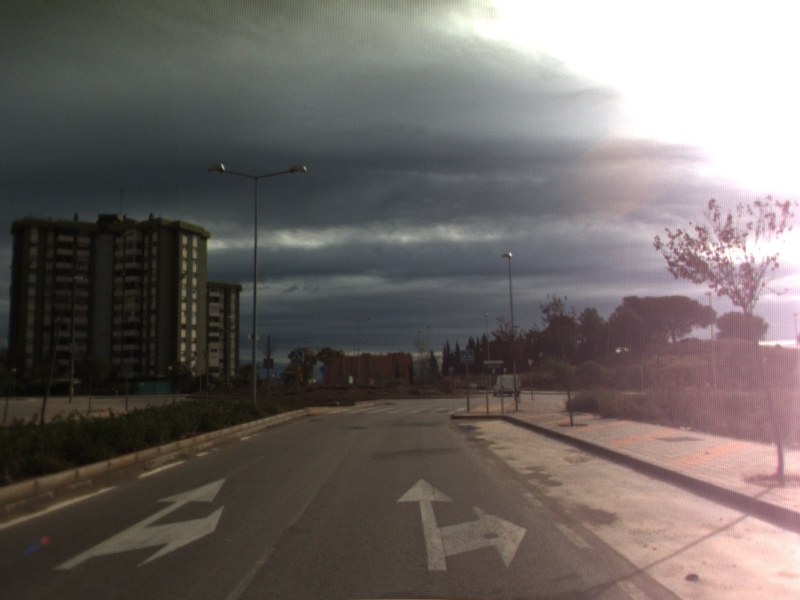STRAIGHT_RIGHT: (50, 476, 228, 573), (394, 476, 529, 573)
